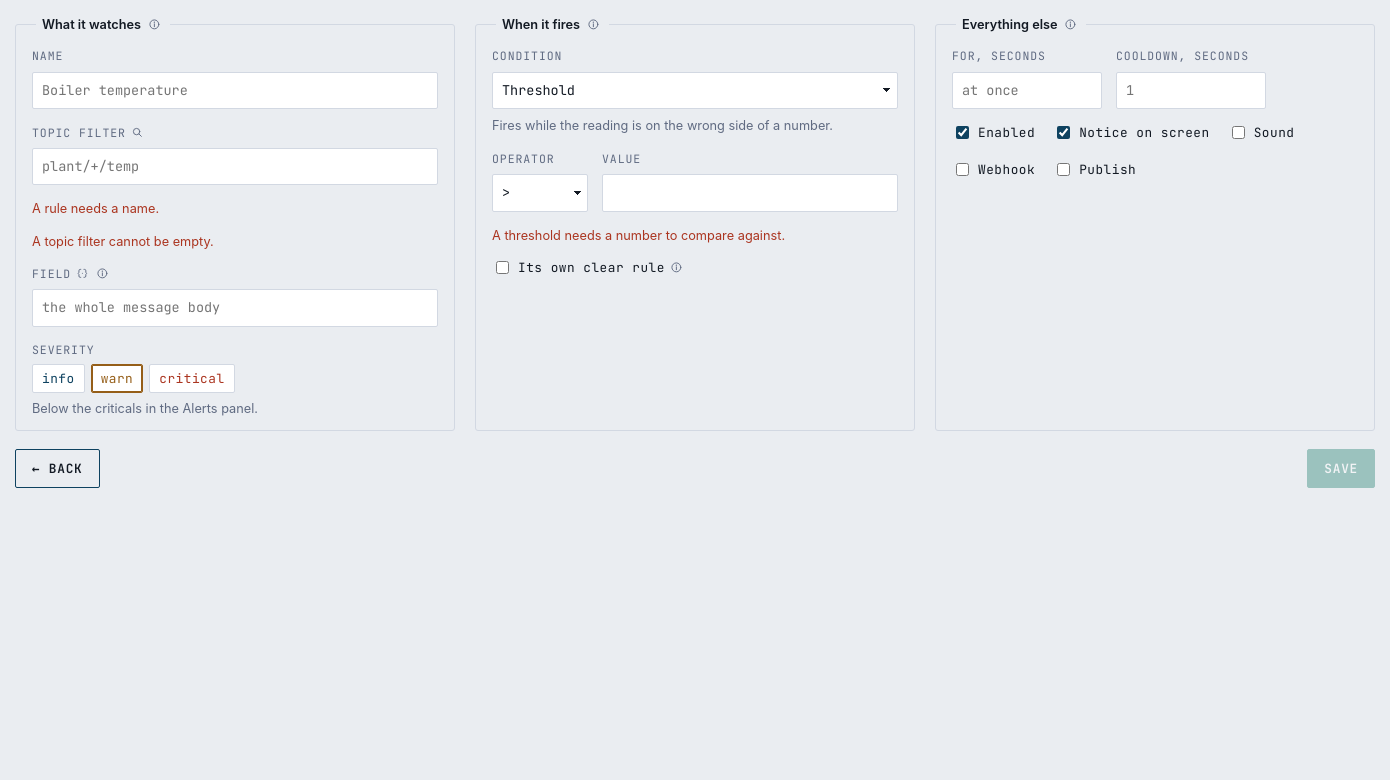
Test: picking a field out of a message › lists the paths in the newest body the filter covers
Type "plant/boiler/temp" into the field labelled "Topic filter" at (235, 167), box [32, 148, 438, 185]
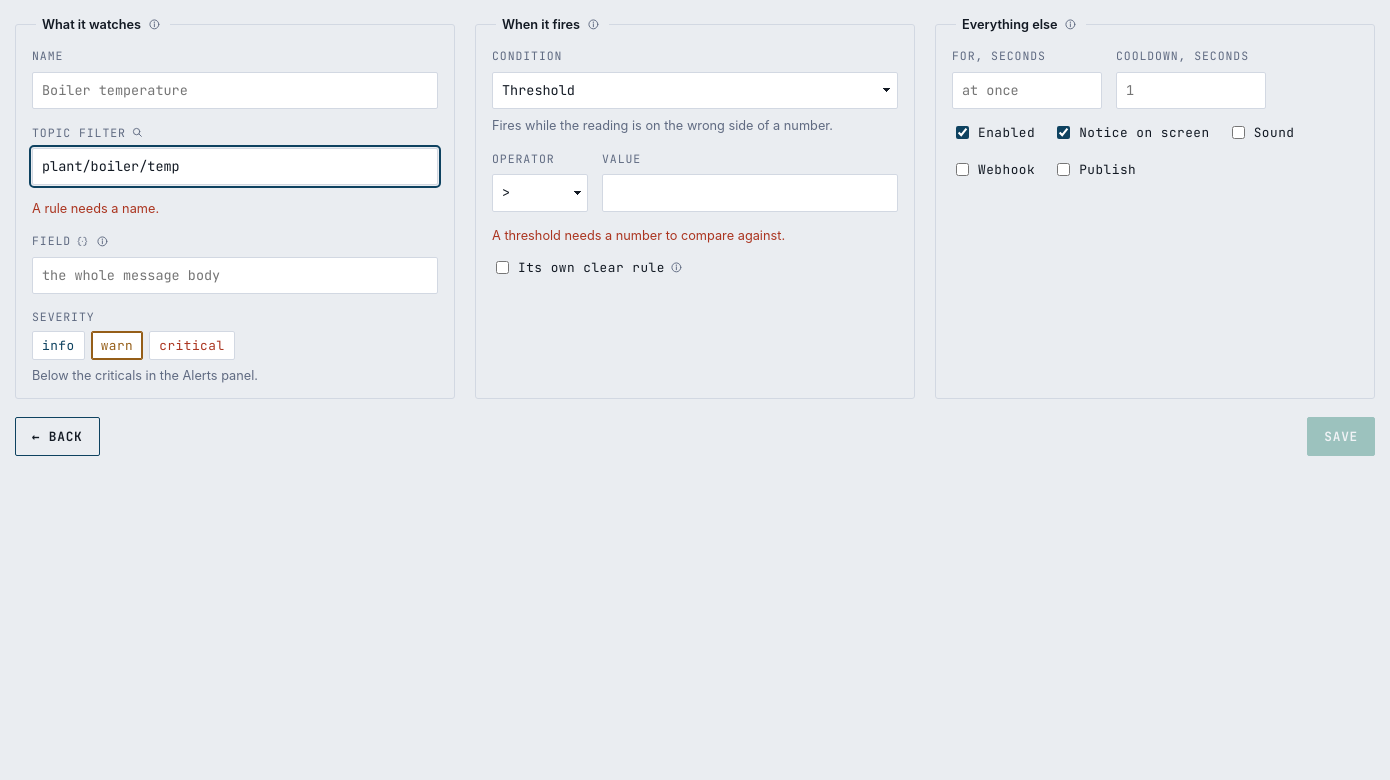
Click the button named "Show fields in a message" at (82, 241), box [73, 232, 92, 250]
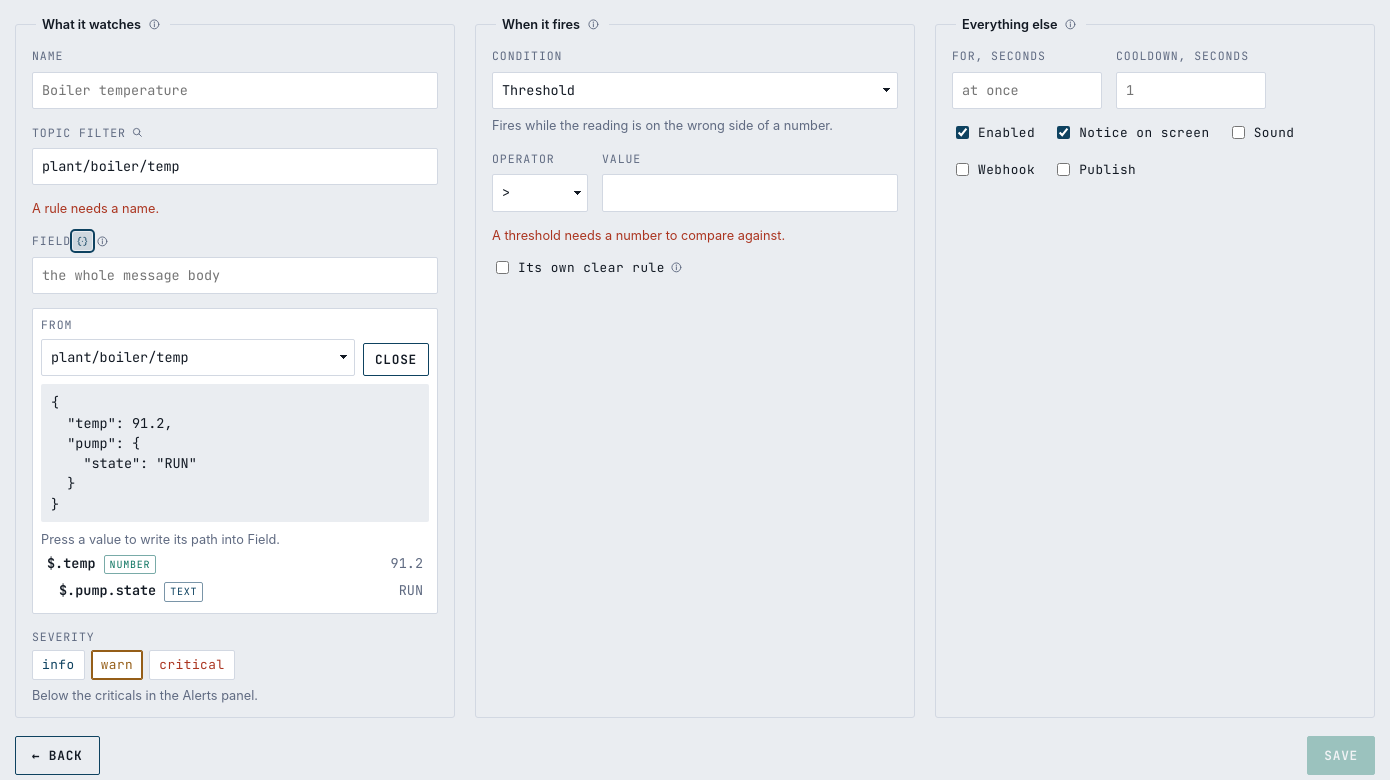
Expected: the button "$.temp number 91.2" is shown, [41, 550, 429, 577]
Expected: the button "$.pump.state text RUN" is shown, [41, 577, 429, 604]
